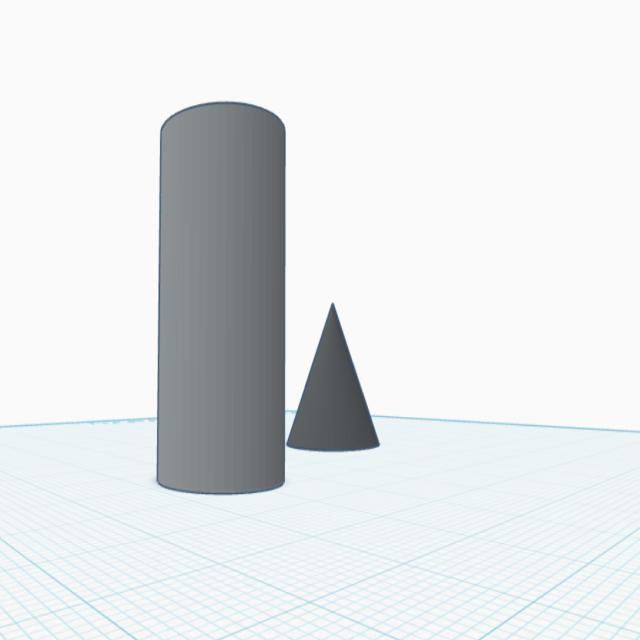cone: (284, 297, 382, 455)
